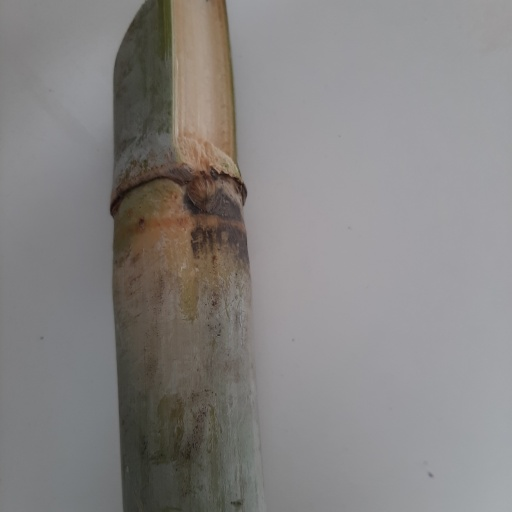Bud: (187, 174, 218, 212)
